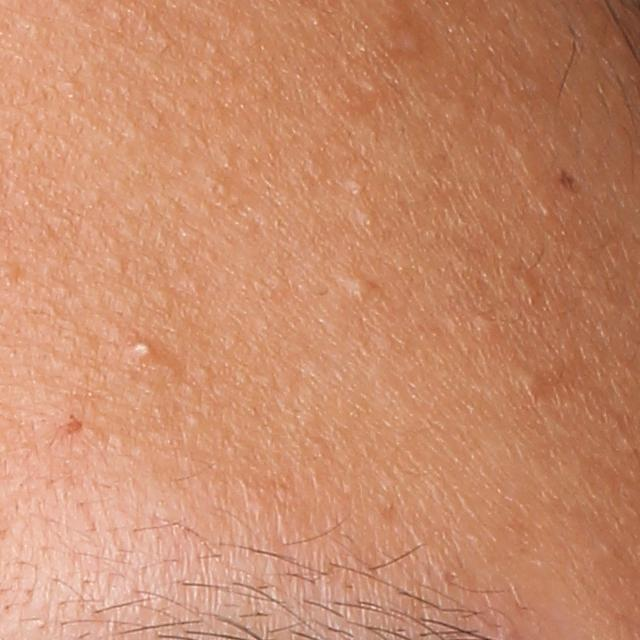comedo: (508, 364, 542, 395), (340, 274, 371, 300), (472, 310, 498, 337), (514, 272, 537, 301), (356, 210, 378, 231), (343, 177, 365, 196)
nevus: (558, 167, 581, 192)
pustule: (128, 339, 160, 362)
